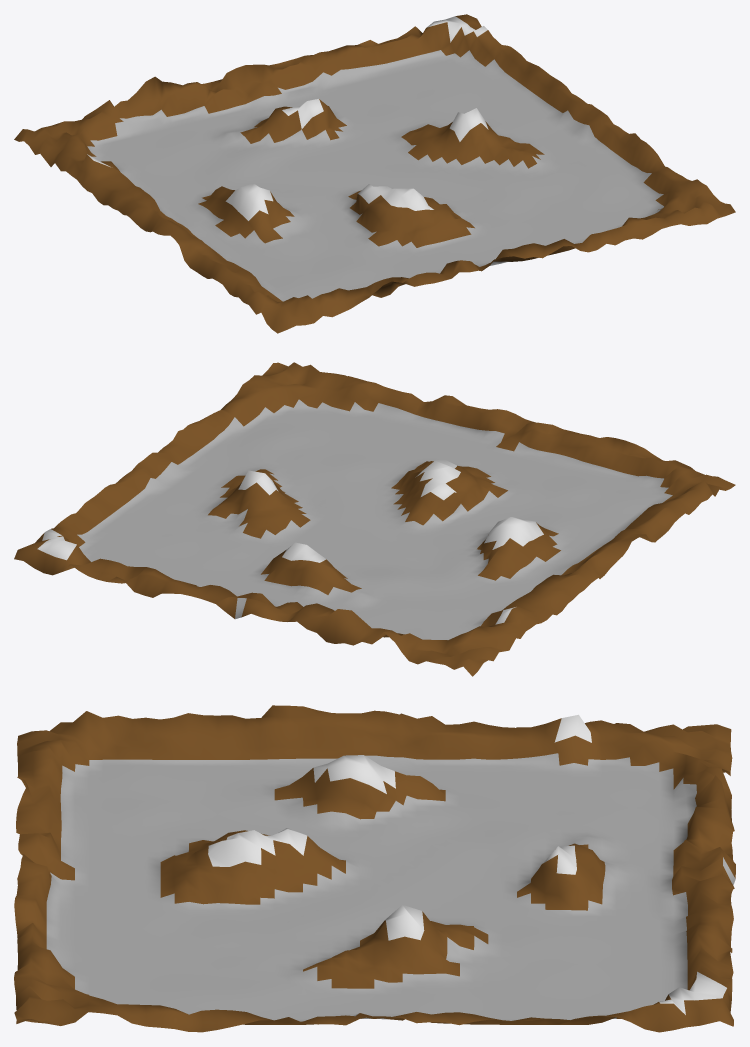
Rendered from Terrain.fbx.
3 views of the same model, one above another, from view 1: azimuth 30°, elevation 25°; view 2: azimuth 150°, elevation 25°; view 3: azimuth 270°, elevation 25° (orthographic). The views are drawn at different scales.
Visible parts, largest first — view 1: pPlane1; view 2: pPlane1; view 3: pPlane1.
Boxes of the visible parts, x1,y1,x2,y2 form: pPlane1: [14, 14, 735, 333]; pPlane1: [14, 362, 735, 676]; pPlane1: [14, 705, 735, 1032].
Size of the model in its own units: 510 by 38.11 by 507.
